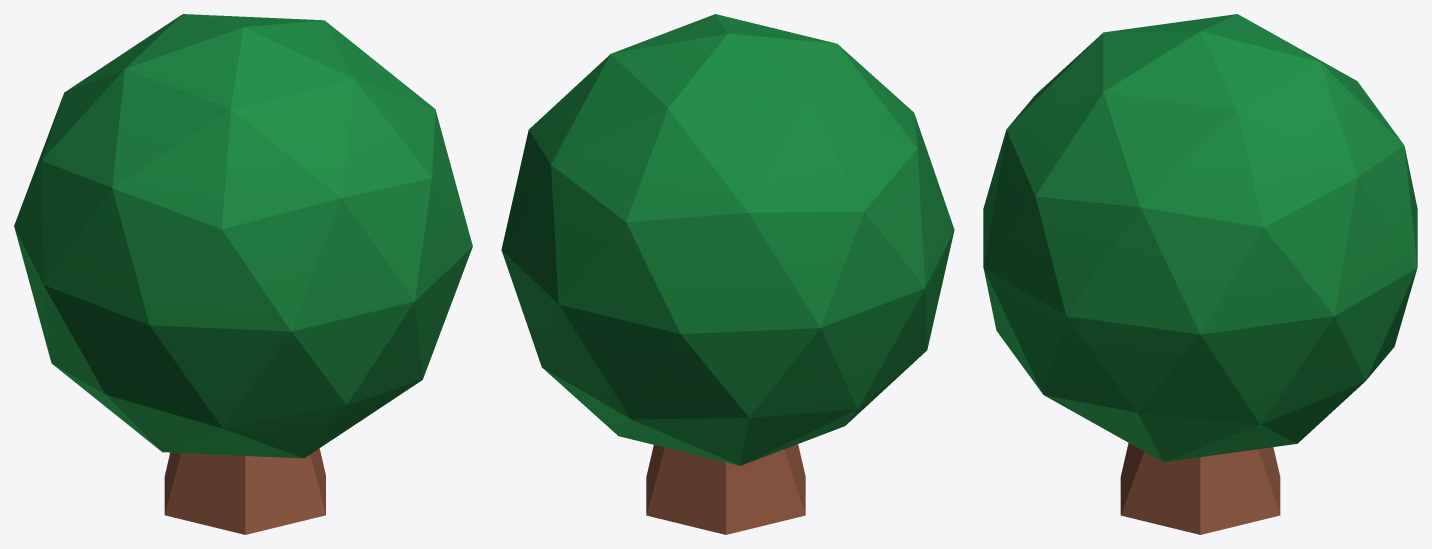
Rendered from Bush_2_gradient_green.fbx.
The picture shows the model from 3 angles, left to right: view 1: azimuth 30°, elevation 25°; view 2: azimuth 150°, elevation 25°; view 3: azimuth 270°, elevation 25°; orthographic projection.
Visible parts, largest first — view 1: Bush_2_gradient_green; view 2: Bush_2_gradient_green; view 3: Bush_2_gradient_green.
Boxes of the visible parts, bbox=[...] form: Bush_2_gradient_green: bbox=[14, 14, 472, 534]; Bush_2_gradient_green: bbox=[501, 14, 954, 534]; Bush_2_gradient_green: bbox=[983, 14, 1417, 534].
Size of the model in its own units: 35.19 by 39.46 by 33.47.
